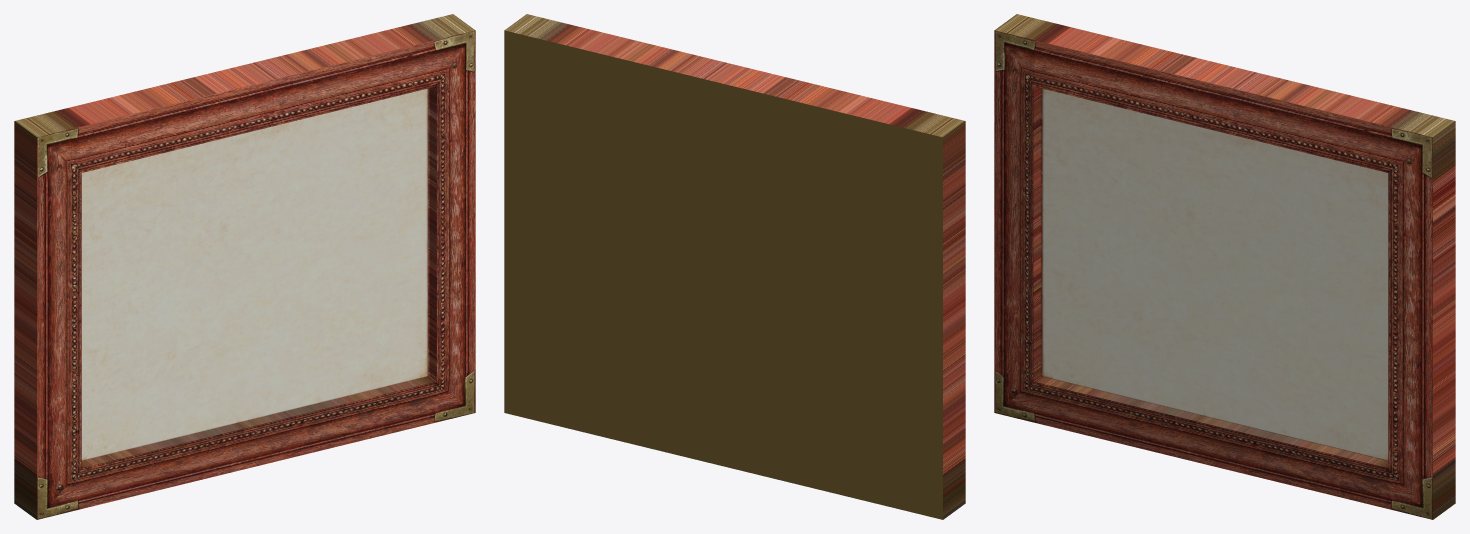
The model's file is panel_hud.glb.
3 views of the same model, side by side, from view 1: azimuth 30°, elevation 25°; view 2: azimuth 150°, elevation 25°; view 3: azimuth 330°, elevation 25° (orthographic).
Parts seen in each view (by area): view 1: panel_hud; view 2: panel_hud; view 3: panel_hud.
Part boxes in pixels (x1,y1,x2,y2): panel_hud: (14, 14, 475, 519); panel_hud: (504, 14, 965, 519); panel_hud: (994, 14, 1455, 519).
Size of the model in its own units: 0.42 by 0.35 by 0.042.
1 material, 1 textured.
